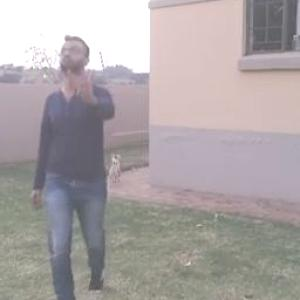takeoff-hand: (72, 67, 100, 103)
